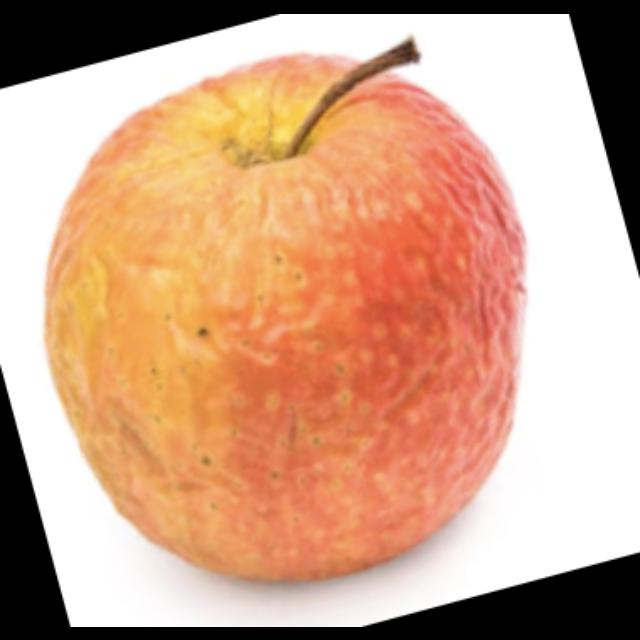Apel Tidak Segar: (35, 43, 532, 587)
